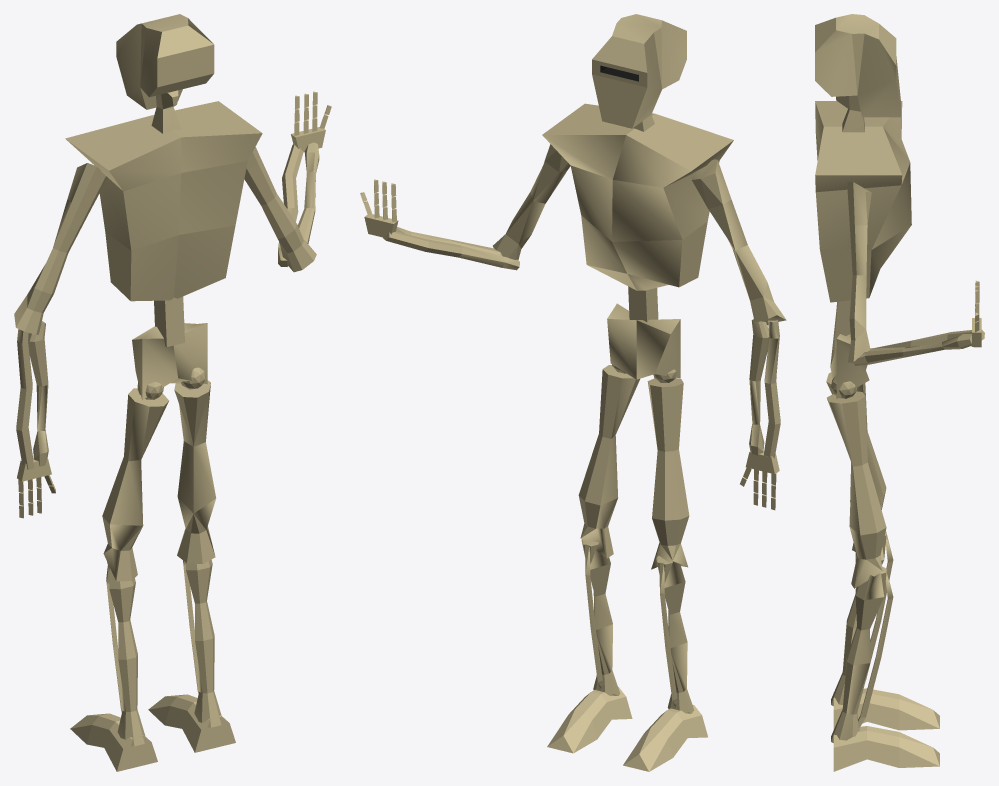
Rendered from mannequin.glb.
3 views of the same model, side by side, from view 1: azimuth 30°, elevation 25°; view 2: azimuth 150°, elevation 25°; view 3: azimuth 270°, elevation 25° (orthographic). The views are drawn at different scales.
Parts seen in each view (by area): view 1: foot_l; view 2: foot_l; view 3: foot_l.
Part boxes in pixels (<box>): foot_l: <box>14,14,331,771</box>; foot_l: <box>360,14,786,771</box>; foot_l: <box>815,14,984,771</box>.
Size of the model in its own units: 0.9105 by 1.68 by 0.3586.
